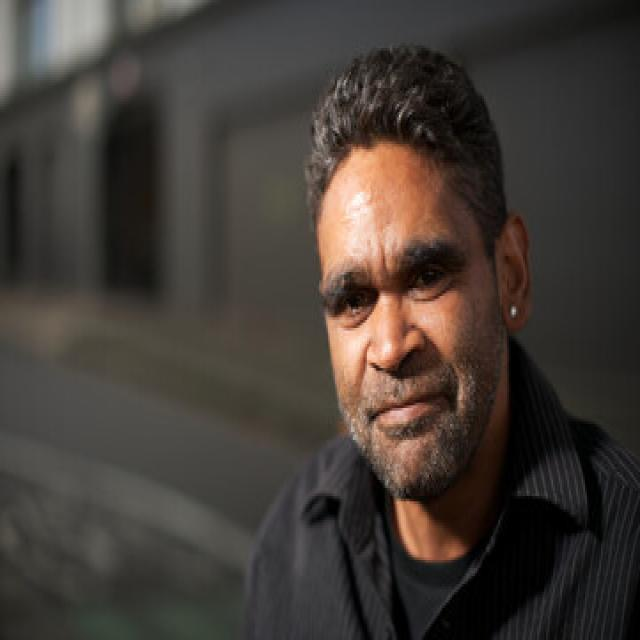person-without-mask: (204, 18, 640, 640)
